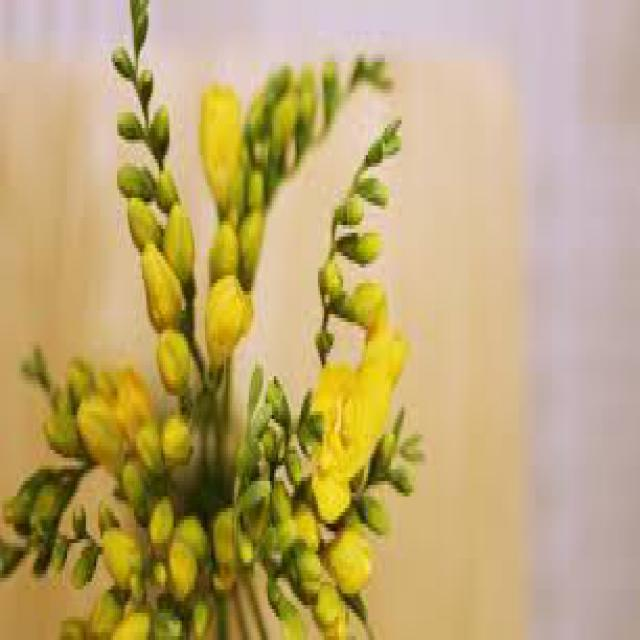freesia: (315, 337, 397, 484)
